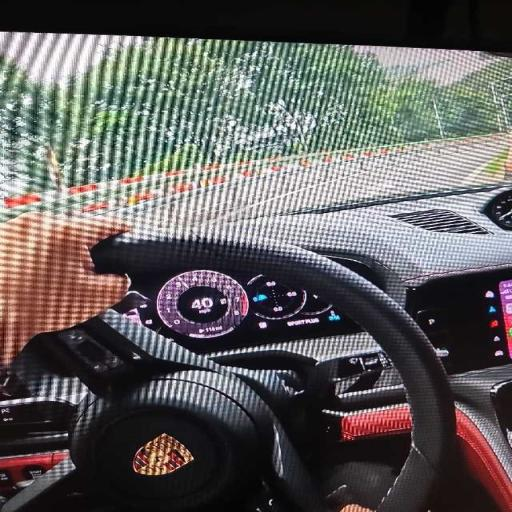person: (0, 213, 130, 366)
